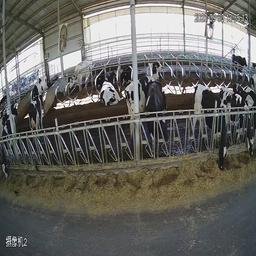cow: (190, 79, 229, 183), (231, 82, 254, 164), (147, 81, 168, 164), (139, 63, 172, 111), (0, 113, 19, 192), (24, 92, 48, 138), (67, 54, 92, 95), (100, 67, 123, 111), (230, 45, 248, 74), (29, 70, 49, 96), (147, 50, 164, 76), (120, 58, 133, 87)
